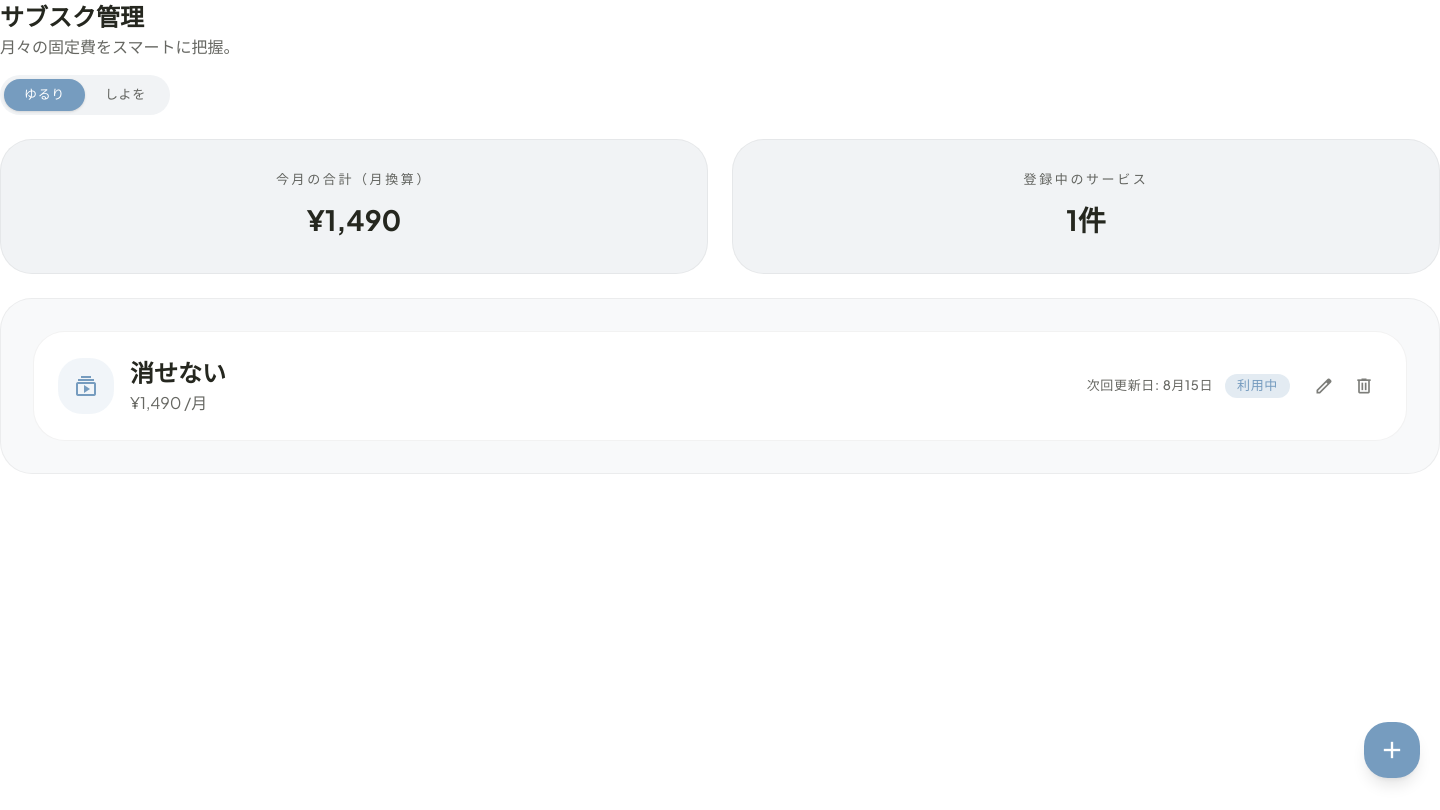
Test: SubscriptionsPage 統合 › 削除失敗時はエラーバナーを表示
The width and height of the screenshot is (1440, 810).
Check: the heading "消せない" is shown, box [130, 356, 226, 390]
Click the button named "削除" at [1364, 386], box [1346, 368, 1382, 404]
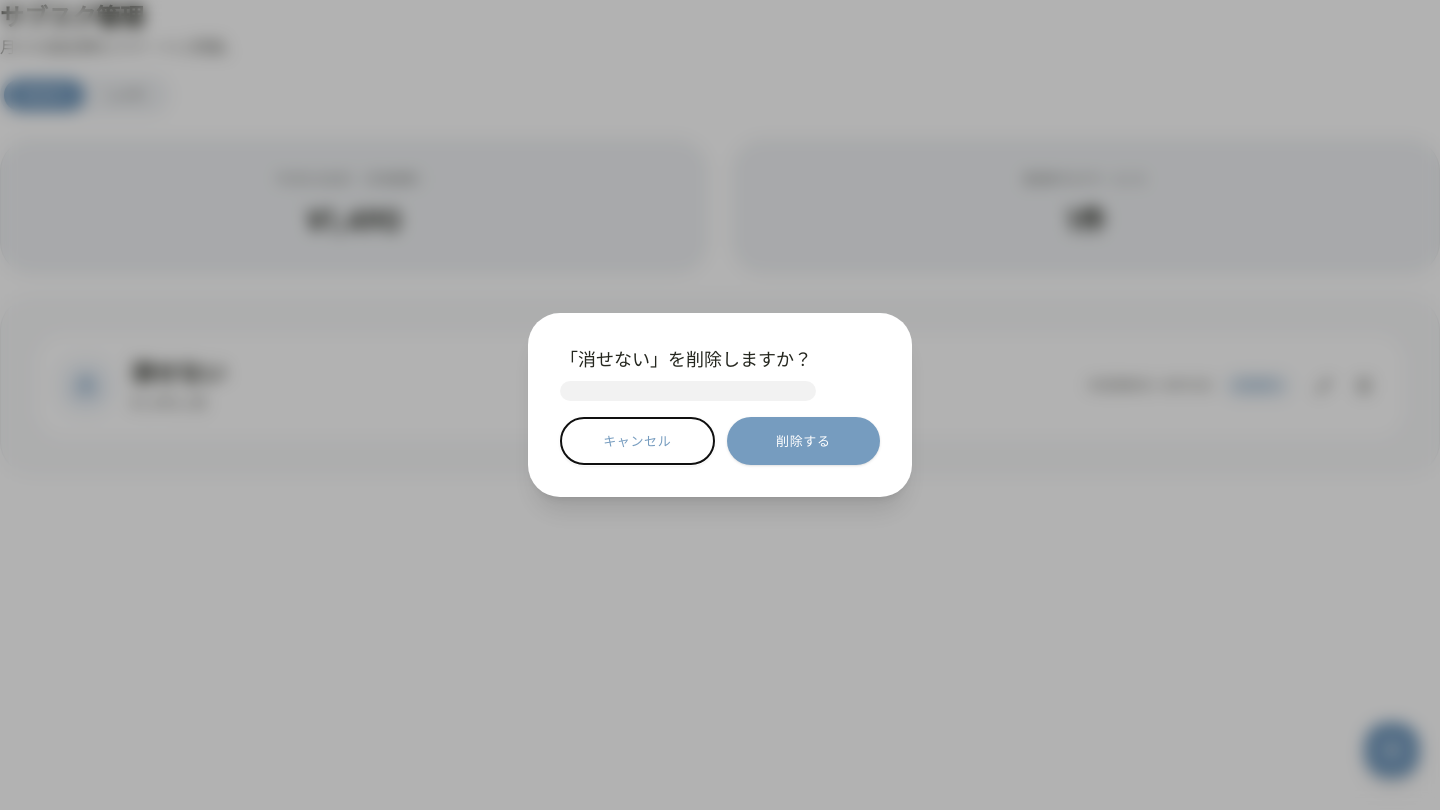
Click the button "削除する" at [803, 441], box [727, 417, 880, 465]
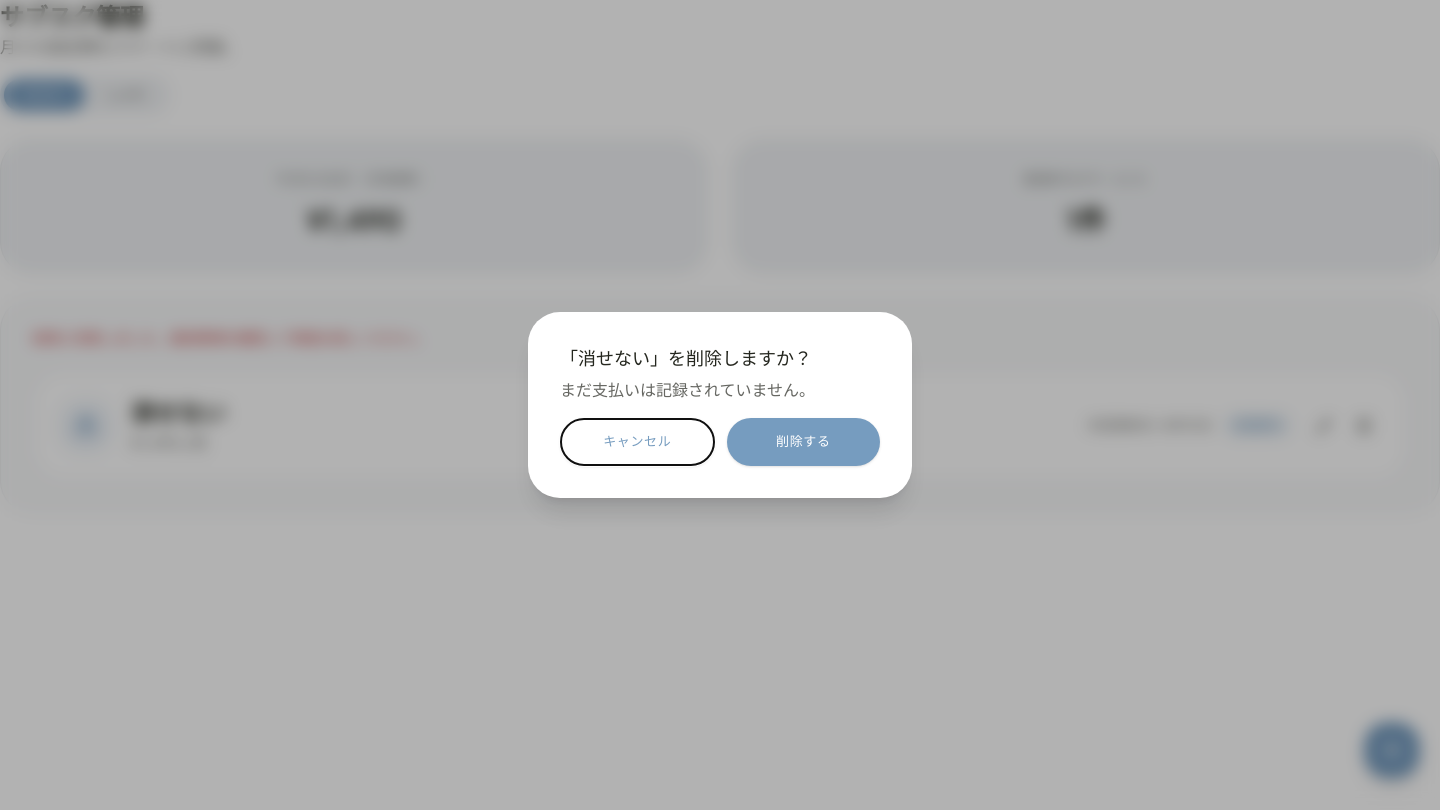
Check: the text "削除に失敗しました。通信環境を確認して再度お試しください。" is shown, box [33, 330, 428, 346]
